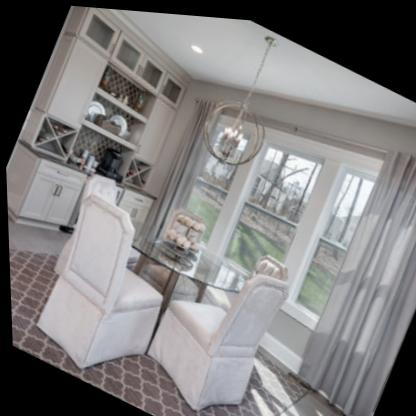Cabinet: (40, 3, 201, 167)
Curtains: (293, 144, 416, 416)
Dining Table: (13, 159, 300, 416)
